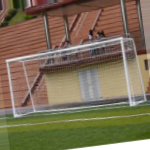goals: (5, 35, 149, 118)
